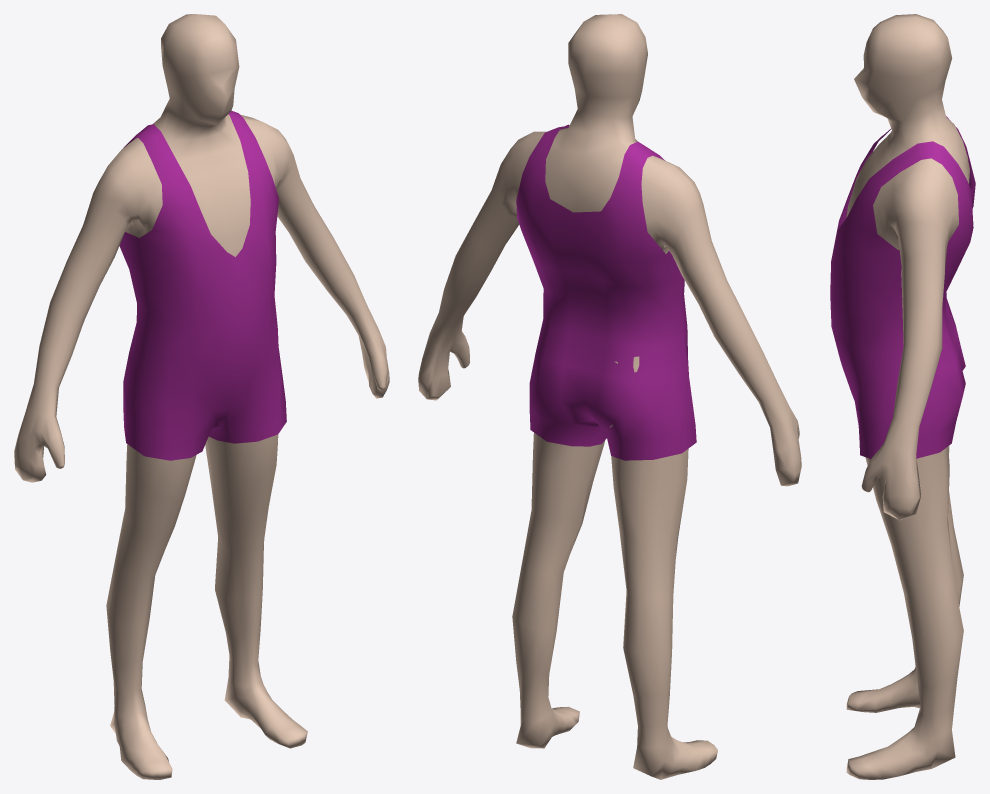
The model's file is secouriste maillot 1 piece.fbx.
3 views of the same model, side by side, from view 1: azimuth 30°, elevation 25°; view 2: azimuth 150°, elevation 25°; view 3: azimuth 270°, elevation 25° (orthographic). The views are drawn at different scales.
Parts seen in each view (by area): view 1: secouriste_maillot_1_piece; view 2: secouriste_maillot_1_piece; view 3: secouriste_maillot_1_piece.
Part boxes in pixels (x1,y1,x2,y2): secouriste_maillot_1_piece: [14, 14, 389, 779]; secouriste_maillot_1_piece: [418, 14, 801, 779]; secouriste_maillot_1_piece: [830, 14, 975, 779].
Bounding box in the file's own units: 96.38 × 181 × 33.01.
